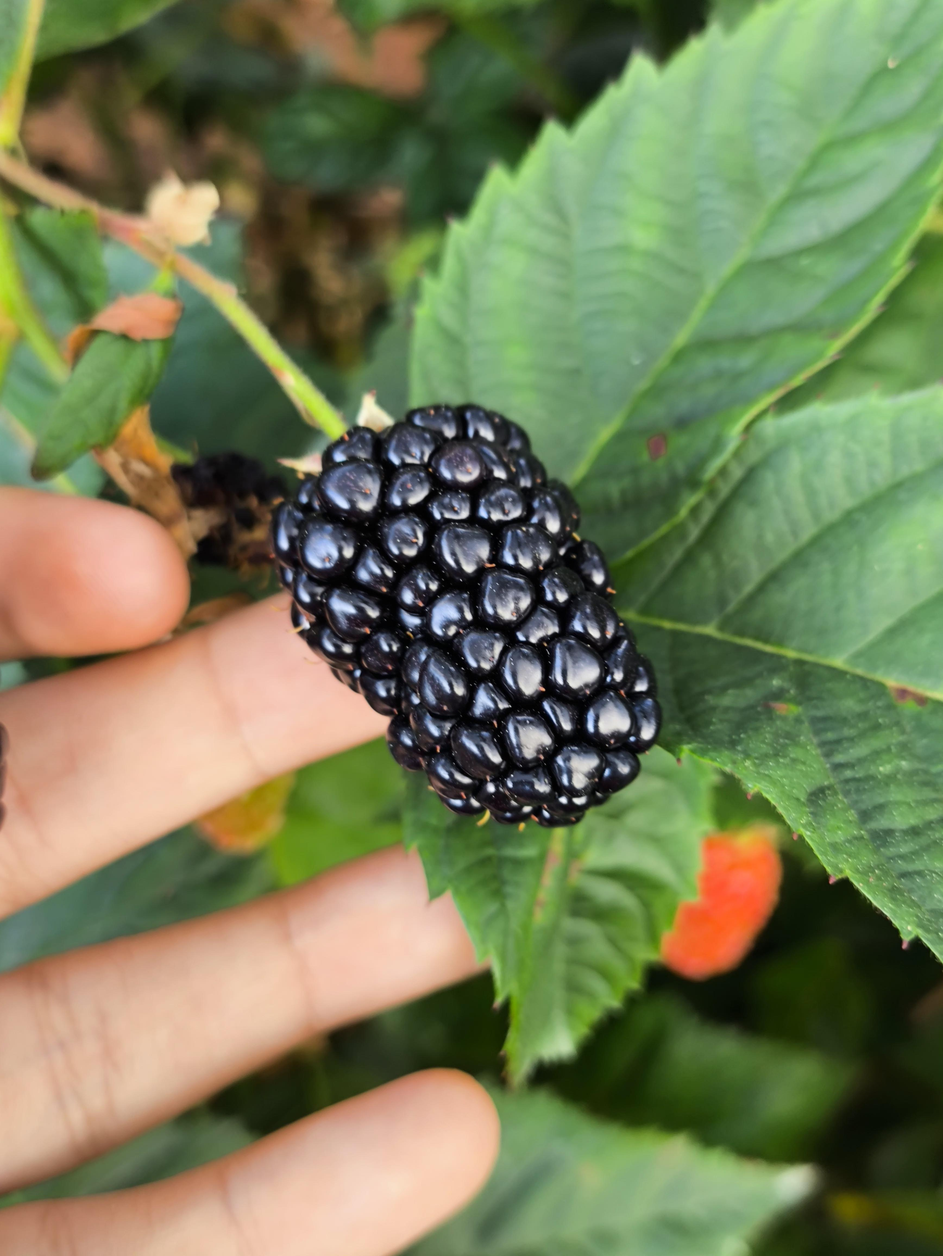maduro: (269, 398, 652, 819)
